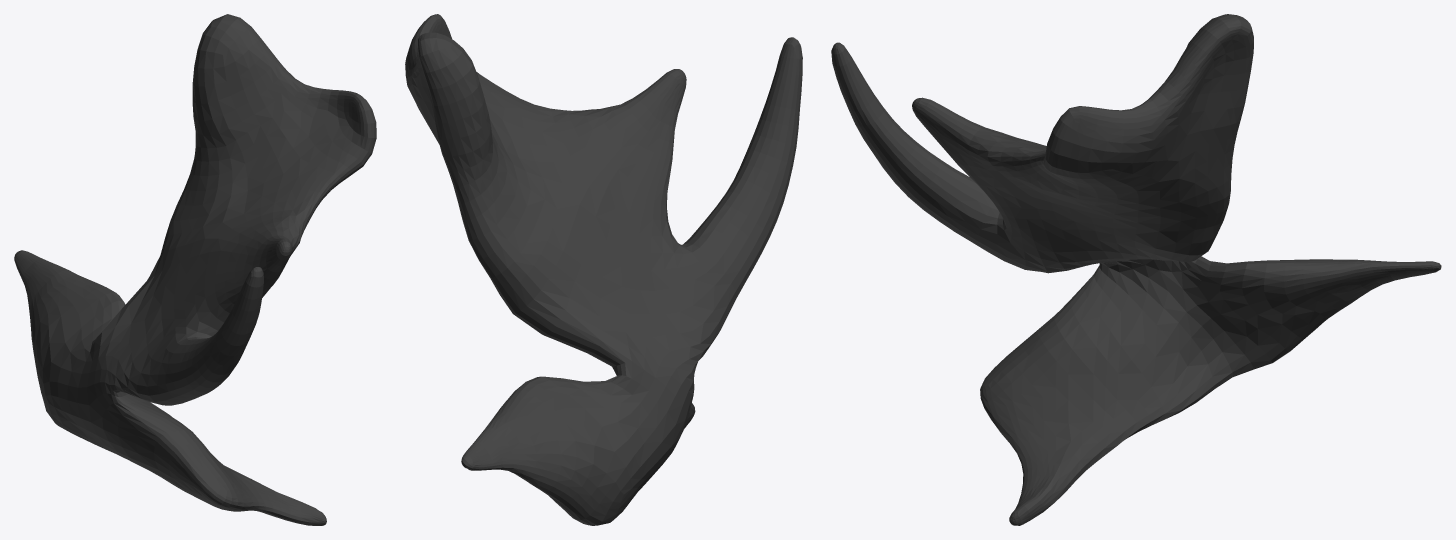
The model's file is cart_arytenoid_LO_L.glb.
3 renders of one model, left to right at view 1: azimuth 30°, elevation 25°; view 2: azimuth 150°, elevation 25°; view 3: azimuth 270°, elevation 25°, orthographic. The views are drawn at different scales.
Visible parts, largest first — view 1: cart_arytenoid_LO_L; view 2: cart_arytenoid_LO_L; view 3: cart_arytenoid_LO_L.
Part boxes in pixels (x1=…): cart_arytenoid_LO_L: x1=14, y1=14, x2=376, y2=525; cart_arytenoid_LO_L: x1=405, y1=14, x2=802, y2=525; cart_arytenoid_LO_L: x1=831, y1=14, x2=1441, y2=525.
Size of the model in its own units: 0.1526 by 0.2563 by 0.2786.
Materials: 1 (1 with a texture image).
